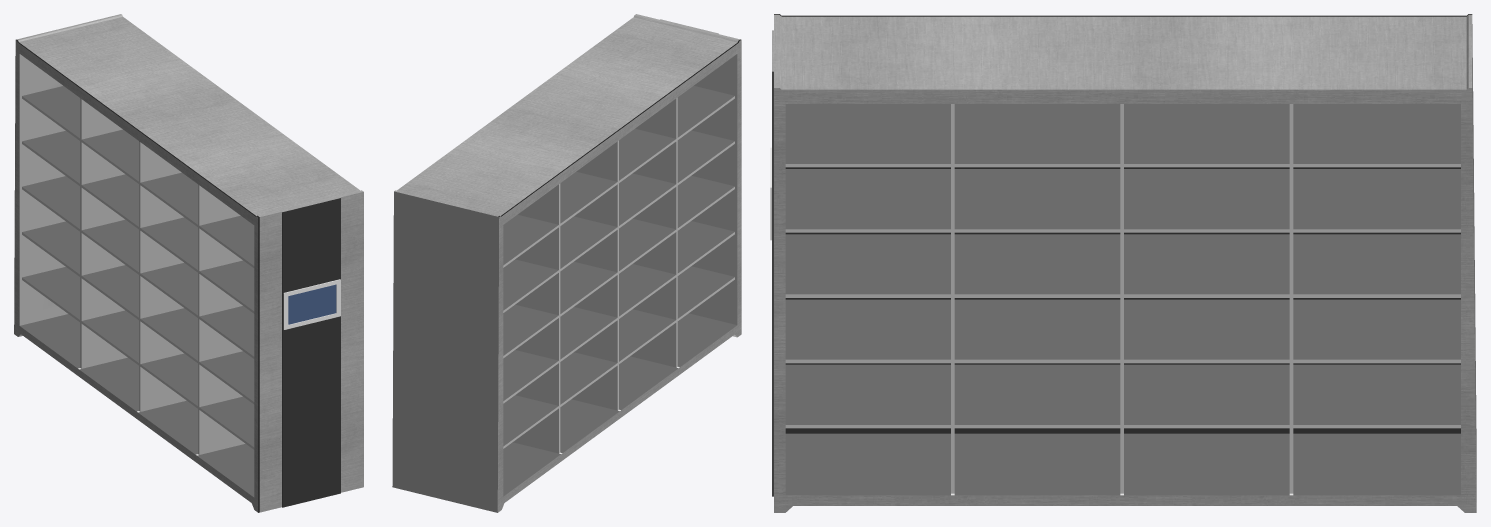
File: mjjcenter6-4-fit.obj
3 renders of one model, left to right at view 1: azimuth 30°, elevation 25°; view 2: azimuth 150°, elevation 25°; view 3: azimuth 270°, elevation 25°, orthographic. The views are drawn at different scales.
Visible parts, largest first — view 1: mjj, Mesh02; view 2: mjj; view 3: mjj.
Part boxes in pixels (bbox=[...]): mjj: bbox=[14, 14, 363, 512]; Mesh02: bbox=[283, 279, 340, 329]; mjj: bbox=[392, 14, 741, 512]; mjj: bbox=[772, 14, 1476, 512].
Size of the model in its own units: 35.44 by 94.93 by 143.
